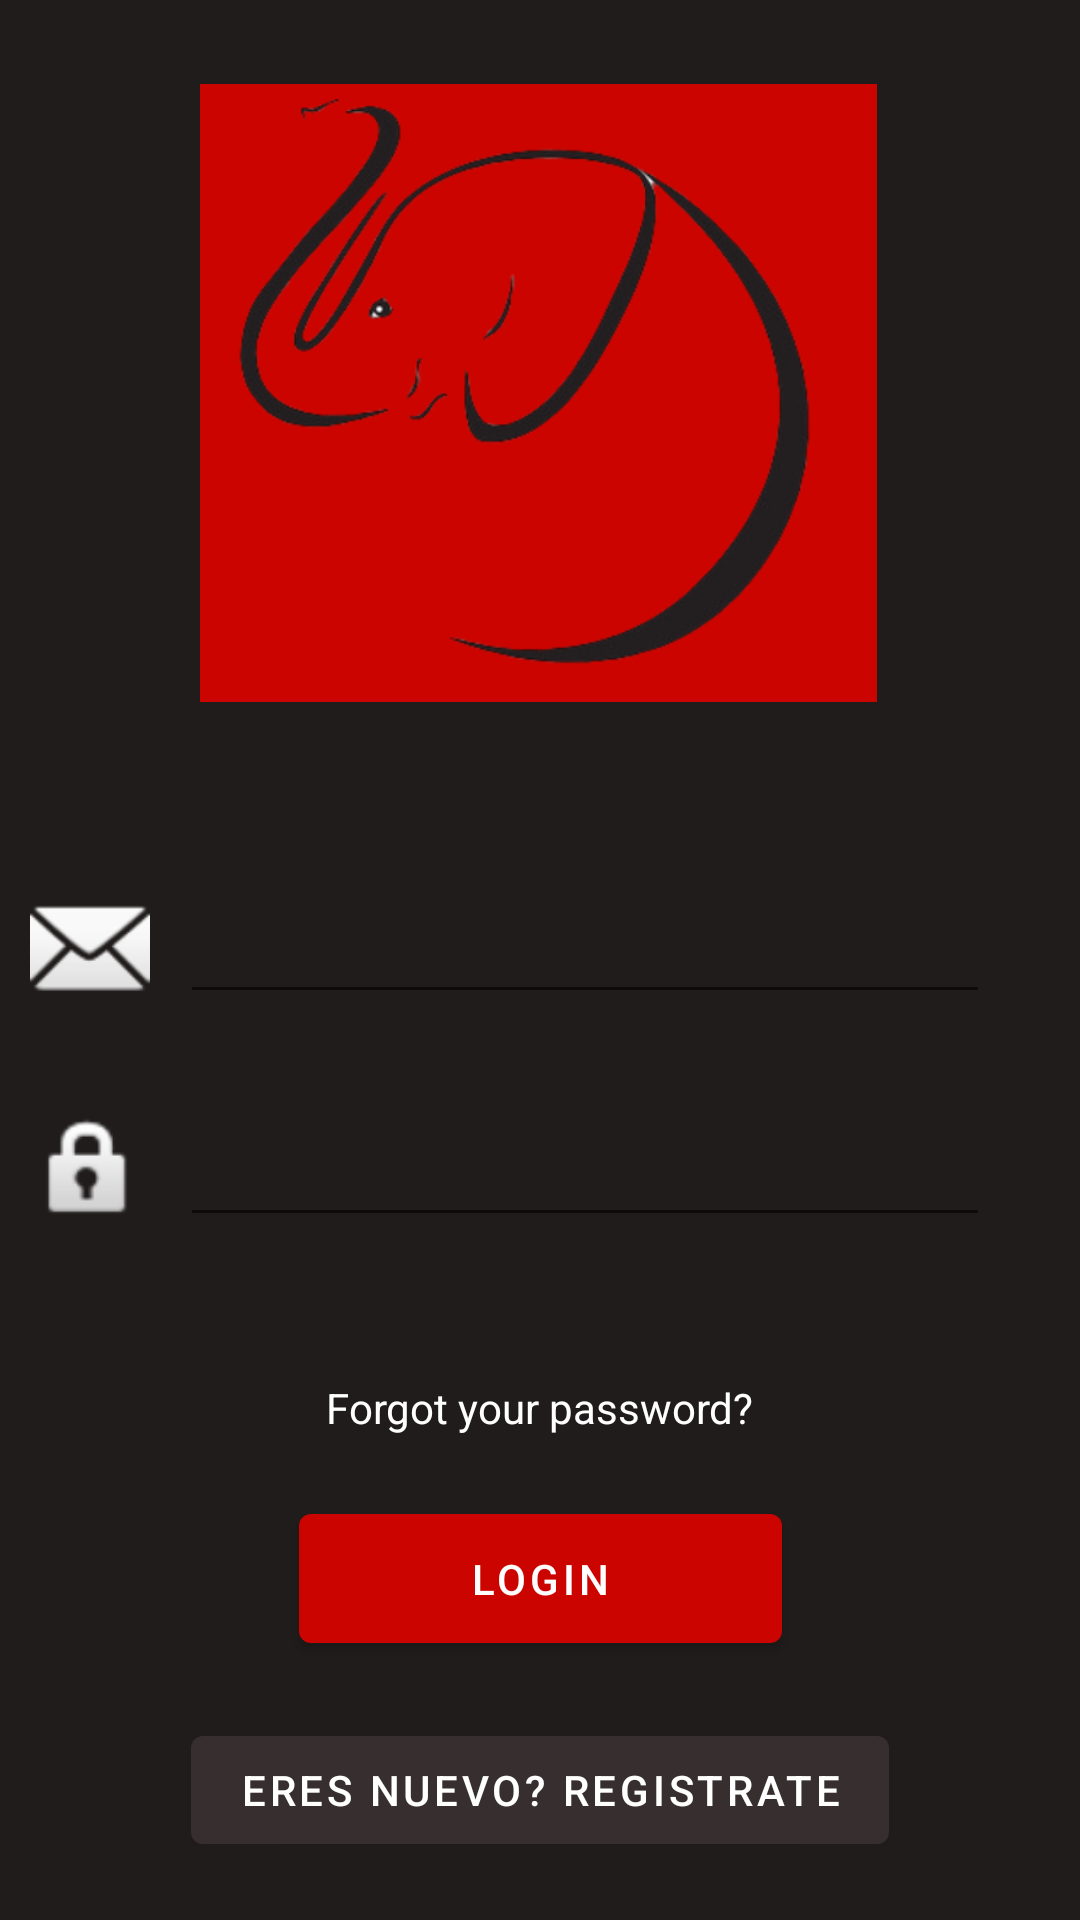

Where icons sit on this 1080 × 1920 app screen, as bbox=[x1, y1, x2, y2]:
email: bbox=[30, 906, 150, 991]
lock idle: bbox=[48, 1120, 127, 1213]
